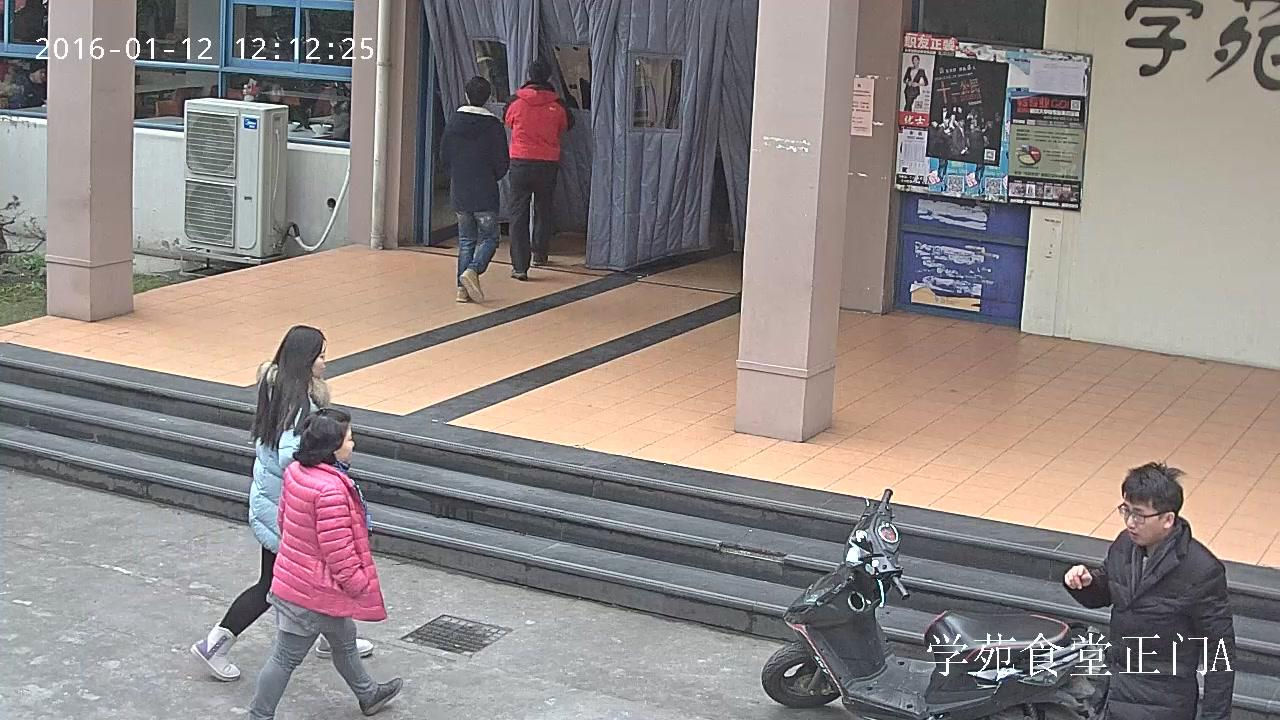person: (192, 325, 375, 683), (245, 406, 401, 720), (1061, 461, 1235, 720), (438, 75, 510, 302), (501, 59, 567, 281), (325, 82, 351, 142), (17, 58, 47, 108), (903, 54, 928, 112)
